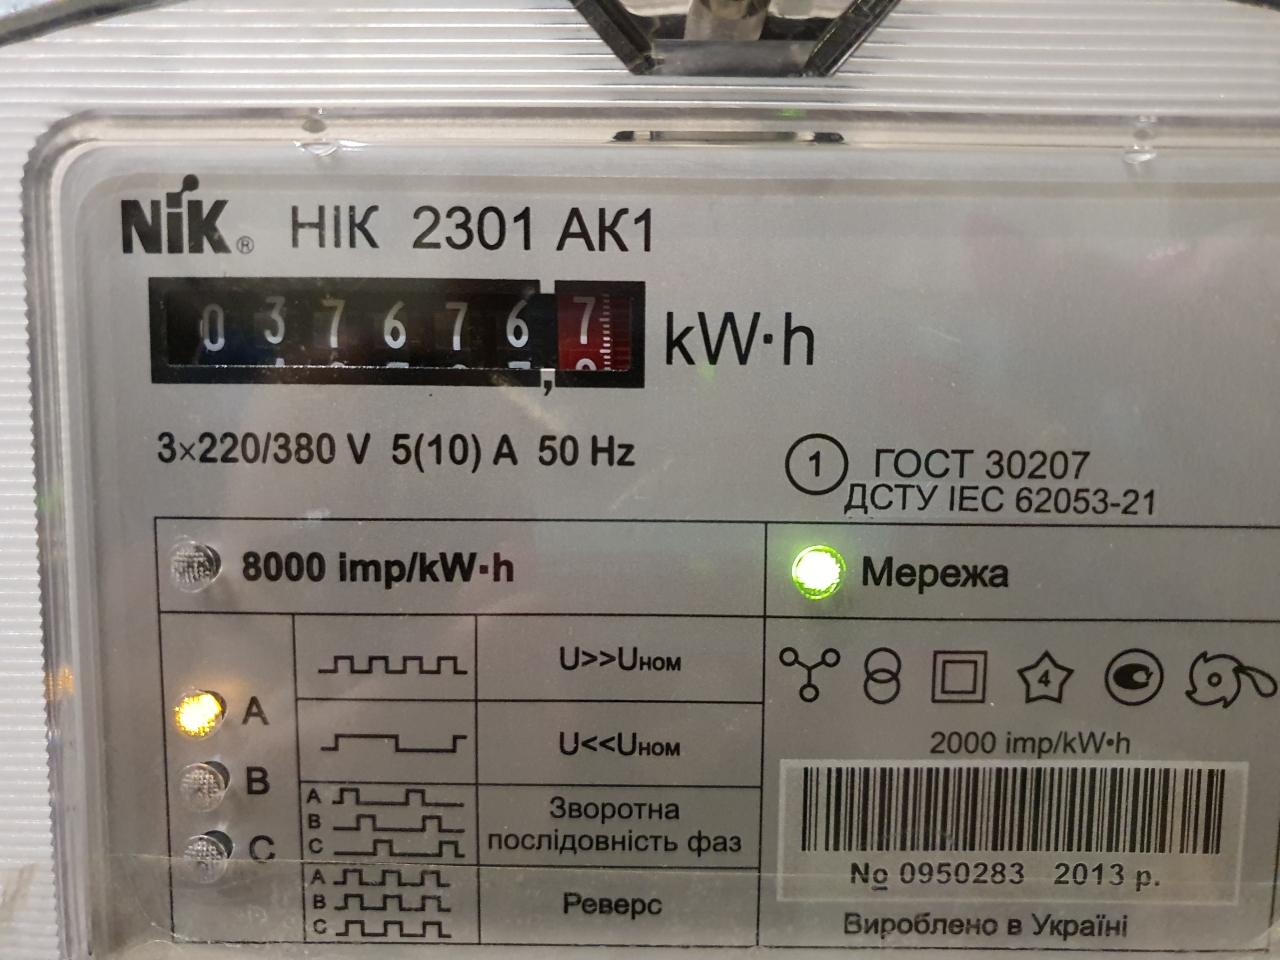0: (197, 299, 230, 353)
3: (260, 290, 287, 347)
6: (379, 296, 411, 350), (502, 295, 532, 350)
7: (440, 297, 472, 355), (318, 294, 348, 350), (570, 291, 598, 347)
screen: (133, 260, 661, 406)
